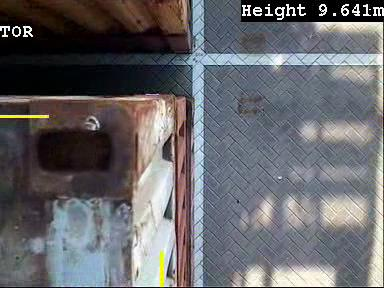groundmarker_2: (199, 48, 238, 101), (200, 225, 239, 278)
